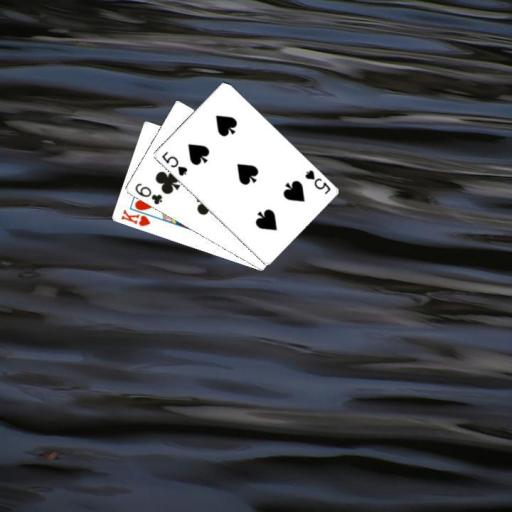5S: (159, 149, 189, 178), (302, 167, 332, 196)
6C: (132, 180, 164, 206)
KH: (118, 206, 152, 228)
